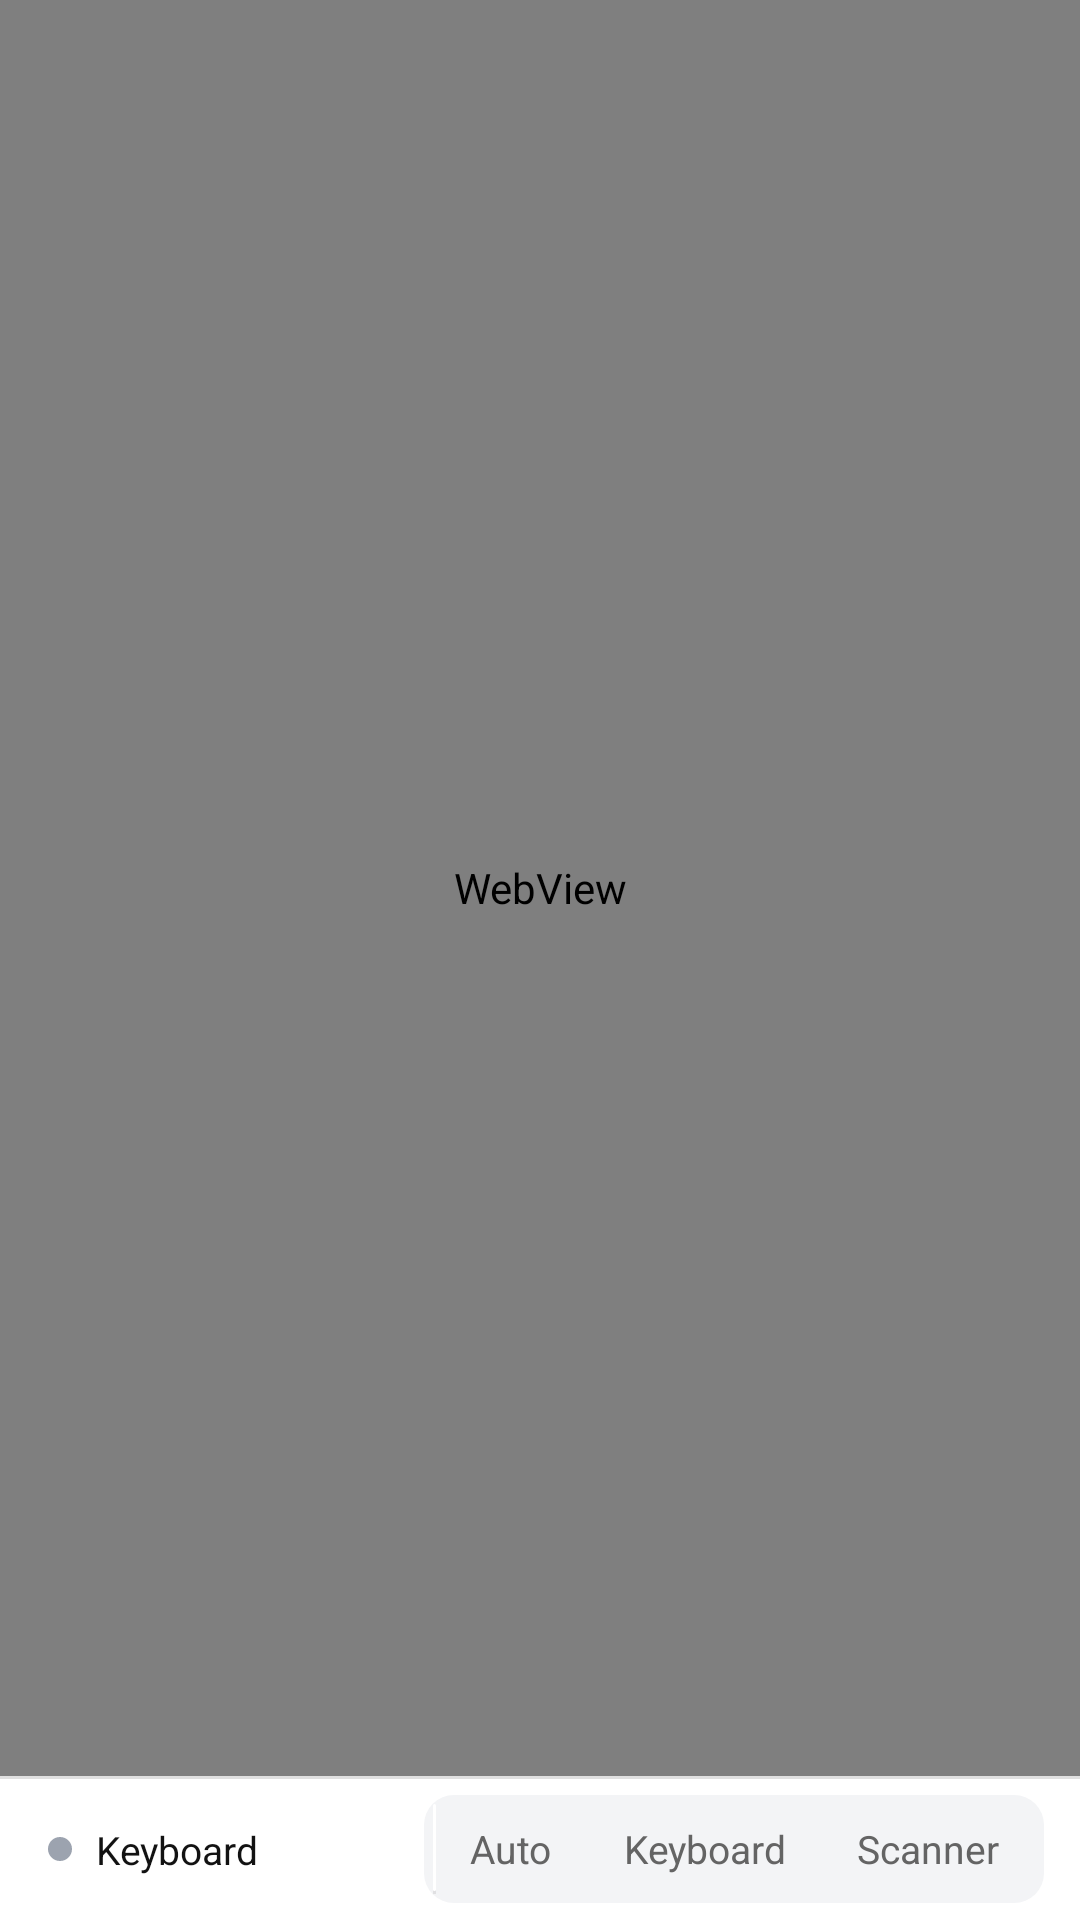

Named icons in this screenshot (1080px x 1920px) and their bounding boxes, (x1, y1, x2, y2):
status dot off: (48, 1837, 72, 1861)
